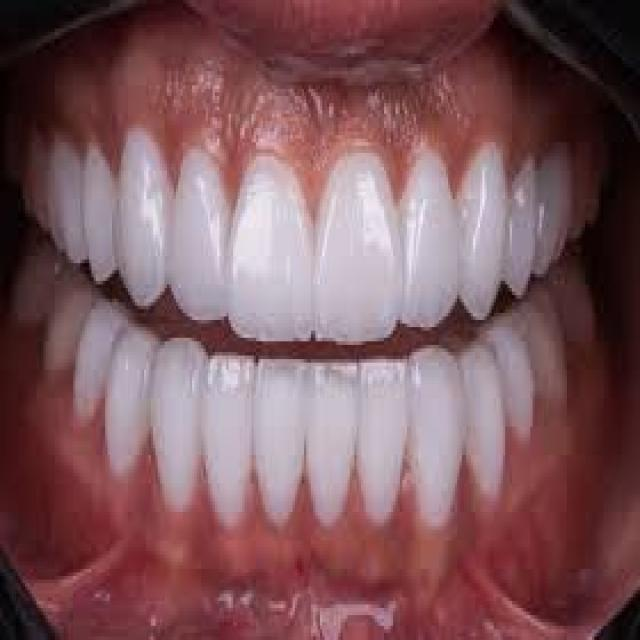tooth: (315, 153, 400, 341), (229, 150, 313, 334), (400, 146, 453, 320), (171, 149, 224, 320), (411, 359, 464, 523), (121, 128, 169, 309), (306, 352, 352, 516), (457, 153, 501, 320), (156, 348, 201, 505), (258, 356, 297, 522), (361, 366, 400, 516), (213, 359, 249, 516), (82, 143, 114, 284), (48, 142, 85, 256), (473, 381, 505, 502), (507, 157, 535, 295), (117, 334, 144, 459), (7, 266, 50, 331), (540, 150, 562, 260), (21, 131, 48, 217), (510, 348, 532, 444), (572, 142, 596, 228), (84, 310, 103, 398), (542, 313, 564, 387), (571, 278, 599, 334), (60, 295, 76, 370)
